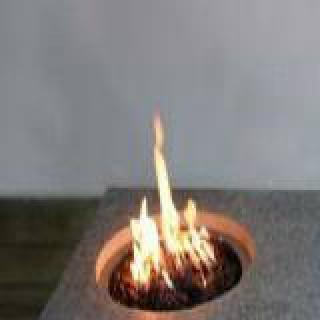fire: (126, 100, 218, 292)
